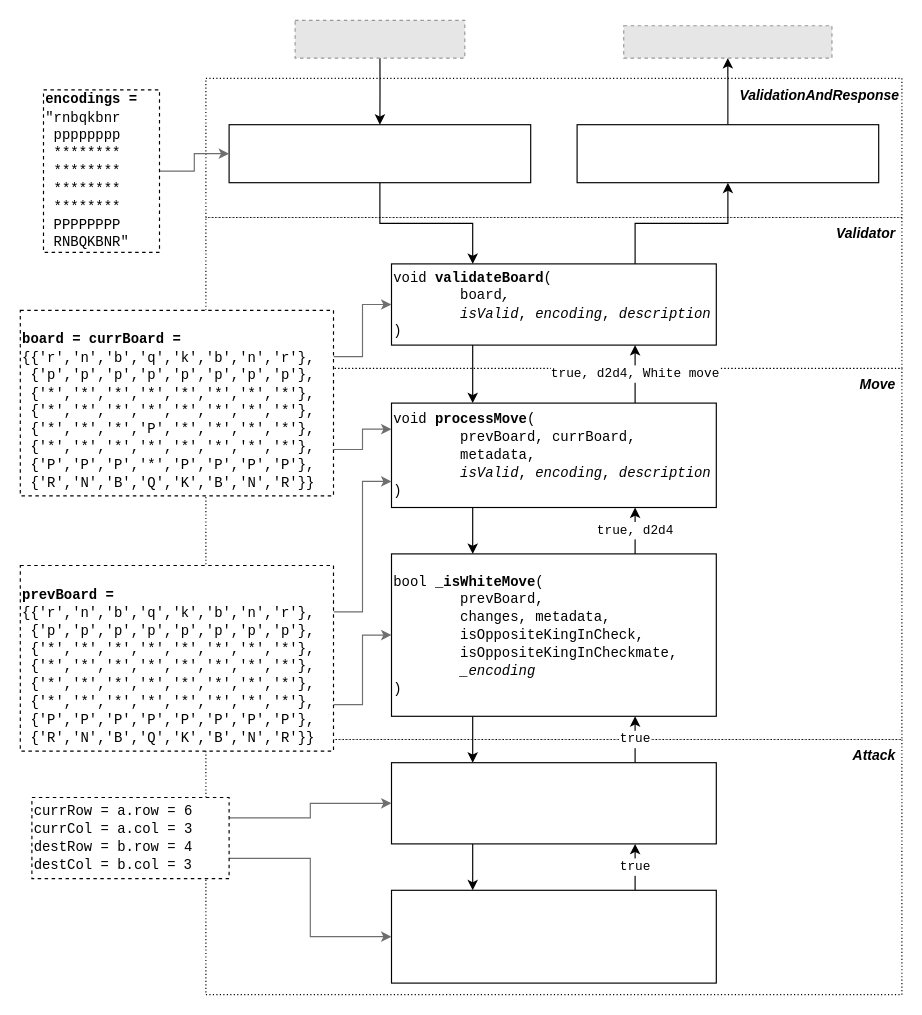
The diagram is 922 pixels wide and 1015 high, and some of its shapes have lost their labels. Grey dashed boxes stand in for pictures. Each missing label, with the centre of its shape:
"bool _canWhitePawnAttackCell( board, currRow, currCol, destRow, destCol )" belongs at [553,936].
"bool canPieceAttackCell( prevBoard, currRow, currCol, destRow, destCol )" belongs at [553,803].
"void validateMoveReplySignal ( isValid, encoding, description )" belongs at [727,153].
"void validateMoveSlot ( encodings )" belongs at [379,153].
